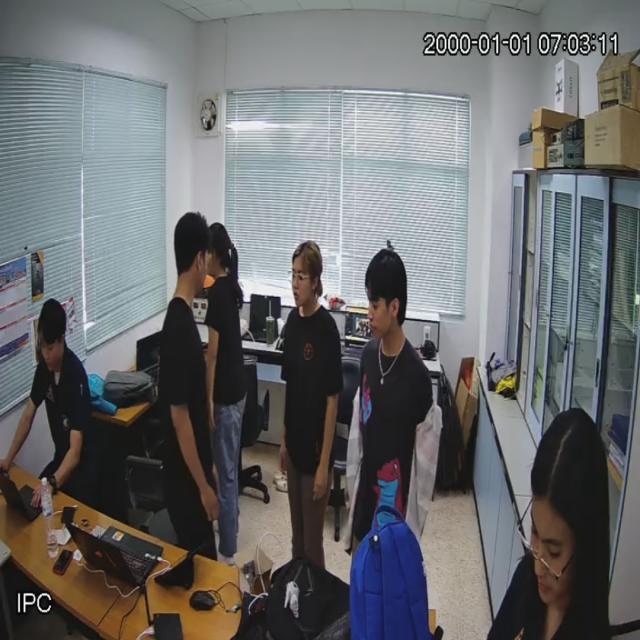normal: (153, 212, 248, 567), (485, 408, 617, 640), (349, 249, 434, 543), (274, 236, 341, 574), (31, 297, 117, 508)
